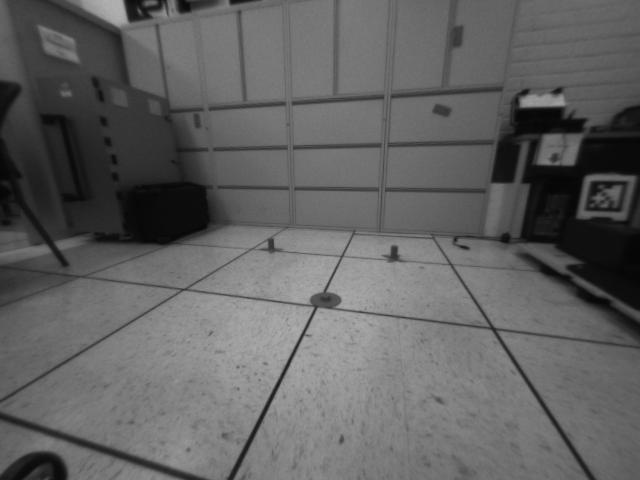X: (382, 244, 405, 264), (259, 237, 283, 255)
